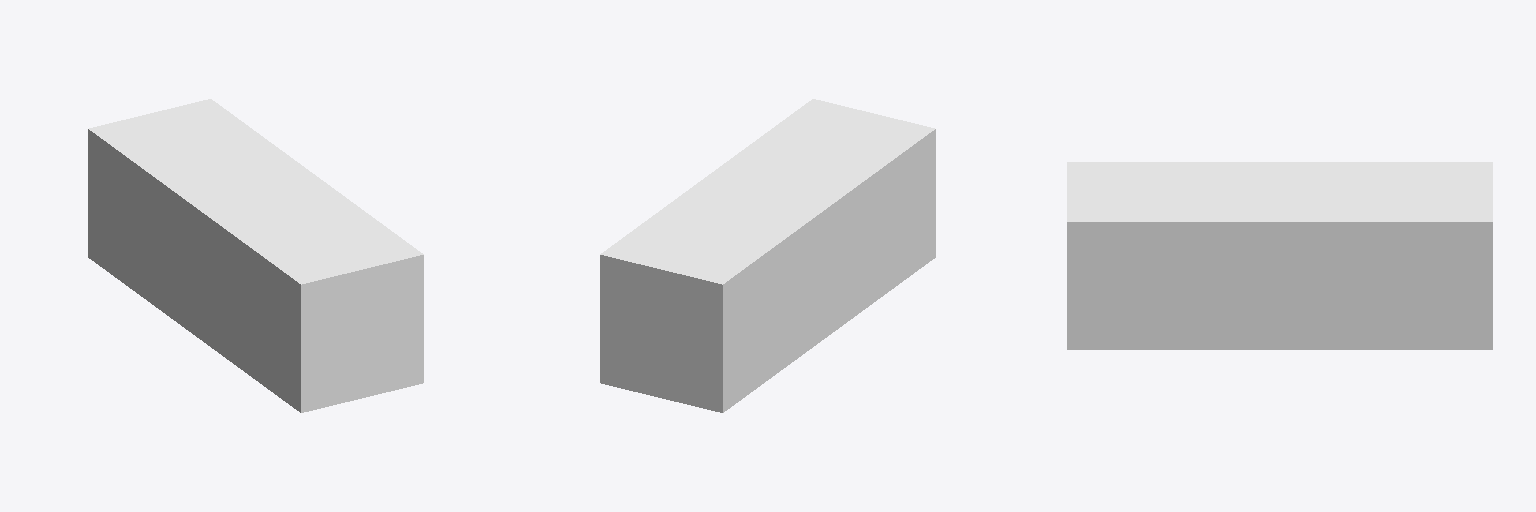
The model's file is map1.35.2.vox.obj.
The picture shows the model from 3 angles: view 1: azimuth 30°, elevation 25°; view 2: azimuth 150°, elevation 25°; view 3: azimuth 270°, elevation 25°; orthographic projection.
Parts seen in each view (by area): view 1: object 1; view 2: object 1; view 3: object 1.
Boxes of the visible parts, x1=… form: object 1: x1=88, y1=99, x2=423, y2=412; object 1: x1=600, y1=99, x2=935, y2=412; object 1: x1=1067, y1=162, x2=1492, y2=349.
Bounding box in the file's own units: 2 × 2 × 6.